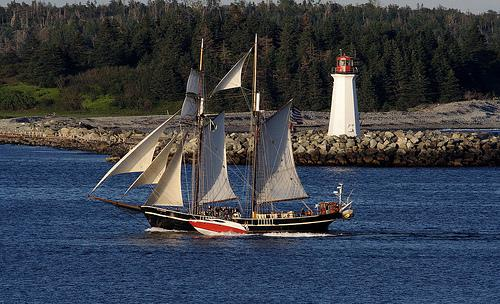Ship: (89, 33, 355, 237)
